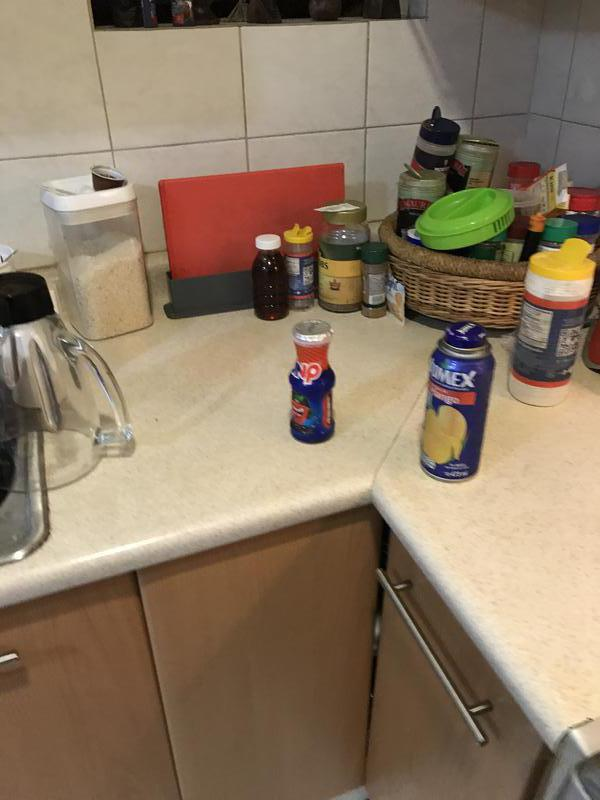danup: (287, 320, 339, 445)
jugo_jumex: (417, 320, 497, 485)
